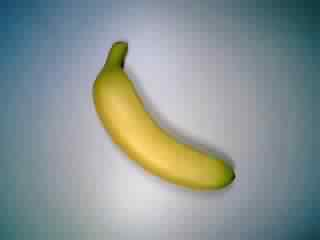banana: (91, 40, 236, 191)
